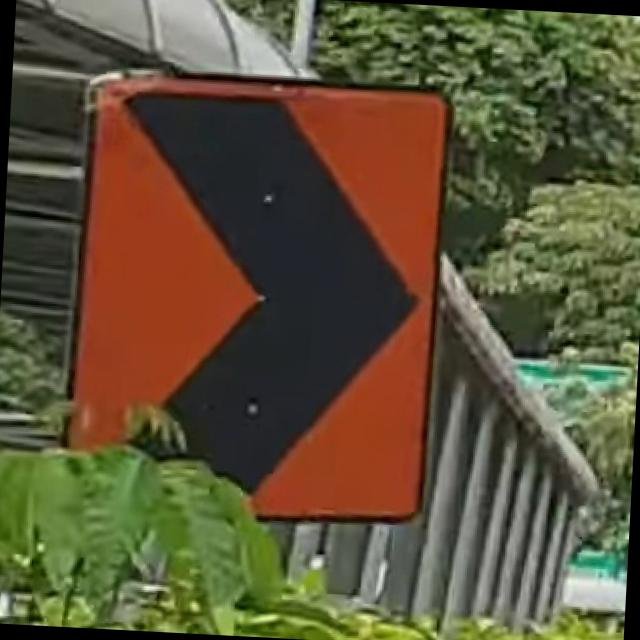curveright_sign: (58, 63, 455, 531)
